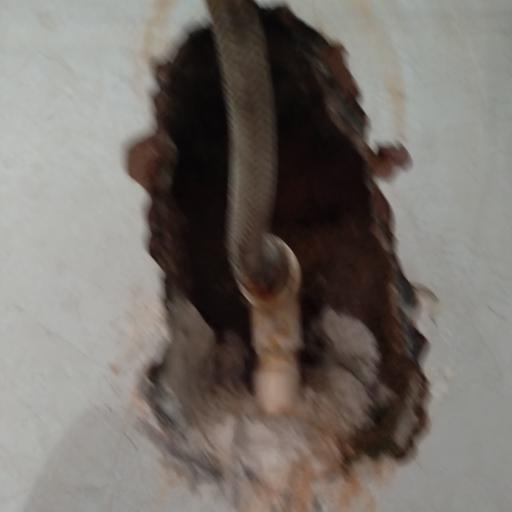spalling: (111, 12, 443, 493)
